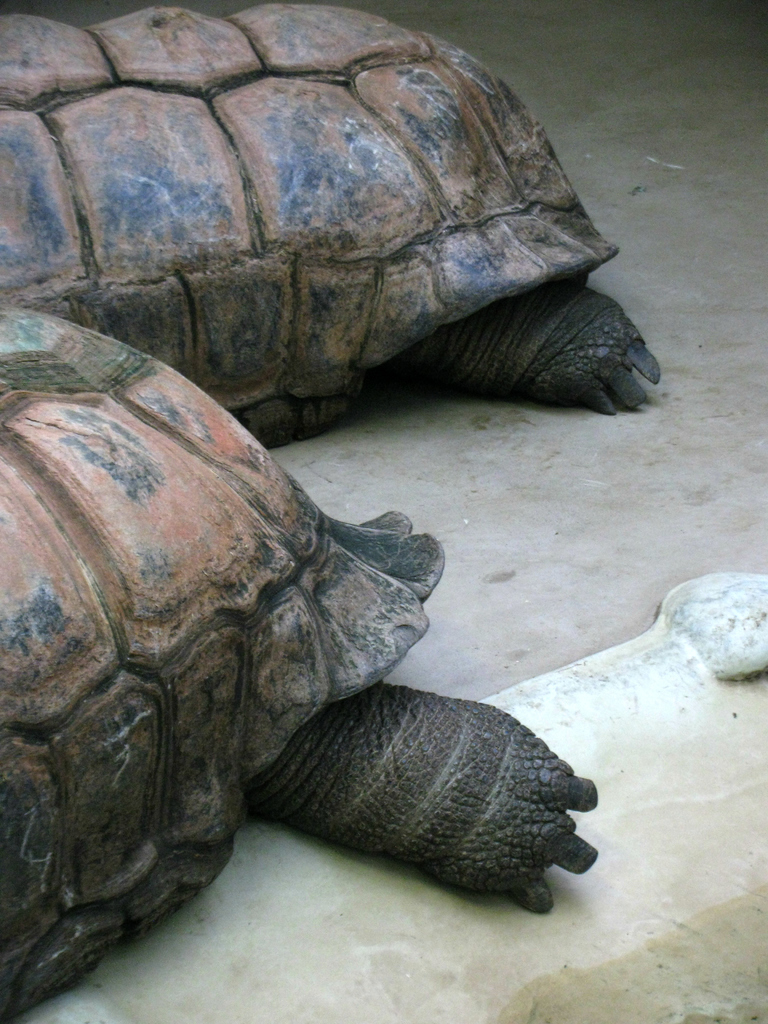Sea turtles: (0, 304, 598, 1024), (0, 0, 665, 454)
